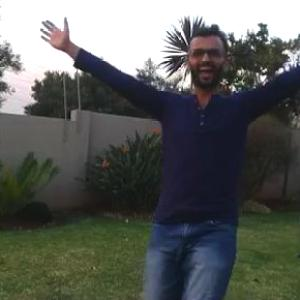takeoff: (54, 22, 299, 299)
